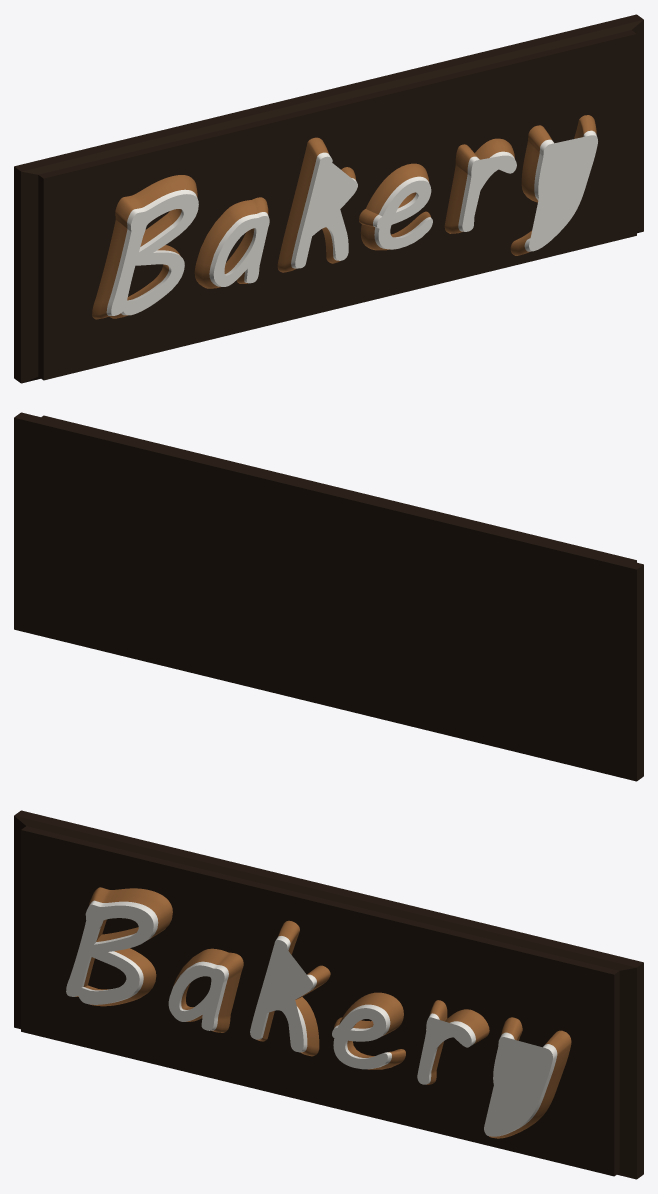
The model's file is BakerySign.fbx.
The picture shows the model from 3 angles, top to bottom: view 1: azimuth 30°, elevation 25°; view 2: azimuth 150°, elevation 25°; view 3: azimuth 330°, elevation 25°; orthographic projection.
Visible parts, largest first — view 1: BakerySign; view 2: BakerySign; view 3: BakerySign.
Boxes of the visible parts, box(x1,y1,x2,y2) form: BakerySign: box(14, 14, 643, 383); BakerySign: box(14, 412, 643, 781); BakerySign: box(14, 810, 643, 1179).
Size of the model in its own units: 2.22 by 0.7203 by 0.161.
